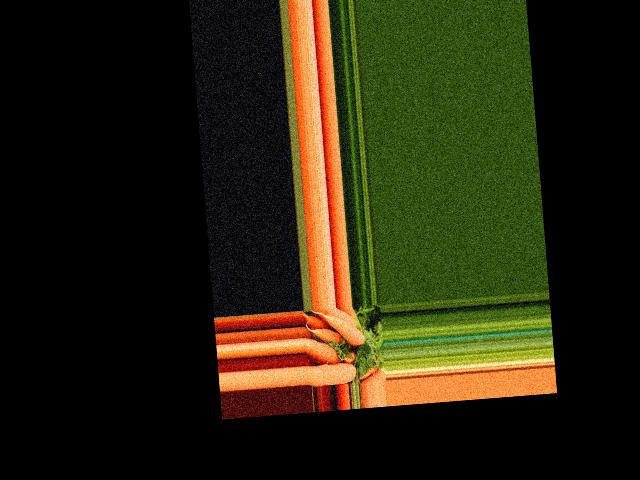carrot: (307, 358, 359, 386)
